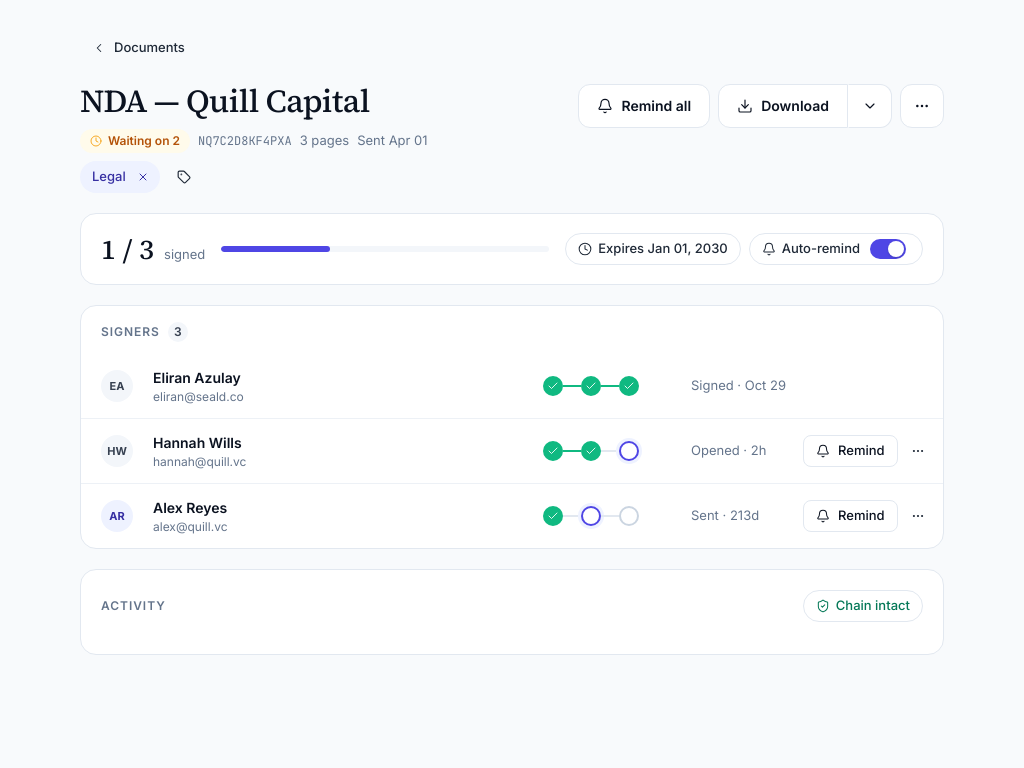
Test: EnvelopeDetailPage › signer actions › the signer menu offers Remind, Fix email and Replace signer
Expected: the heading "NDA — Quill Capital" is shown, [80,79,370,123]
Click the button named "More for Alex Reyes": point(918, 516) [902,500,934,532]
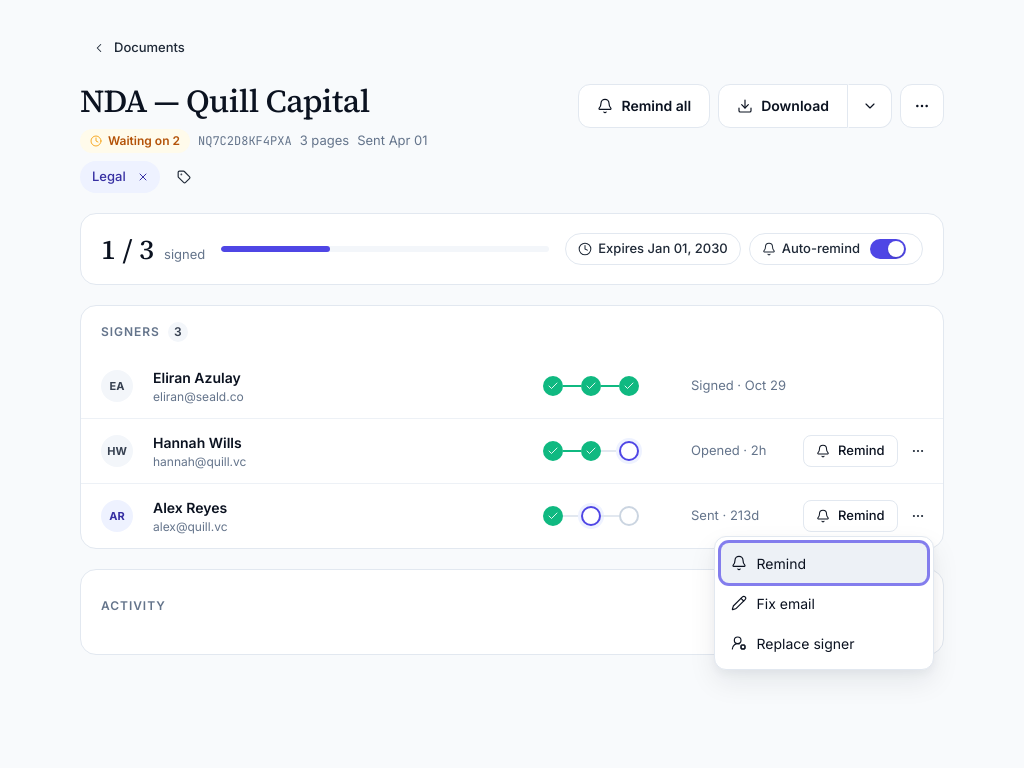
Expected: the menu items read "Remind", "Fix email", "Replace signer", in this order, [721,543,927,583]; [721,583,927,623]; [721,623,927,663]
